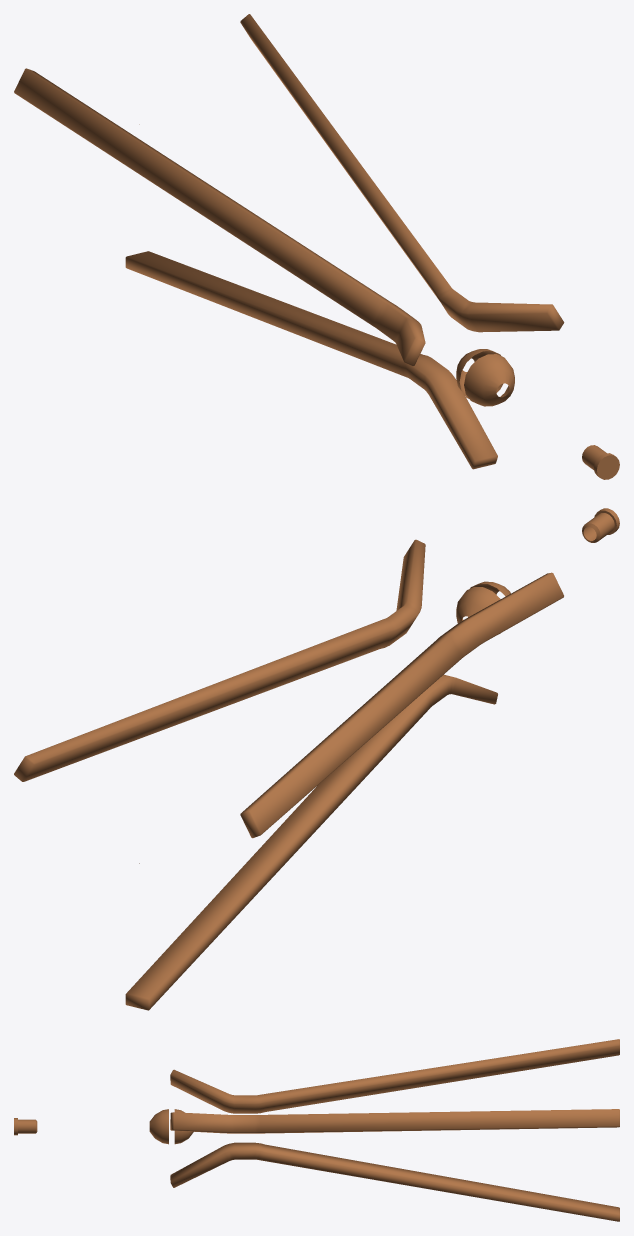
Rendered from MeshFloorLamp_14_0_GeomSubset_0.obj.
3 views of the same model, one above another, from view 1: azimuth 30°, elevation 25°; view 2: azimuth 150°, elevation 25°; view 3: azimuth 270°, elevation 25° (orthographic). The views are drawn at different scales.
Visible parts, largest first — view 1: MeshFloorLamp_14_0_GeomSubset_0; view 2: MeshFloorLamp_14_0_GeomSubset_0; view 3: MeshFloorLamp_14_0_GeomSubset_0.
Part boxes in pixels (x1,y1,x2,y2): MeshFloorLamp_14_0_GeomSubset_0: (14,14,619,479); MeshFloorLamp_14_0_GeomSubset_0: (14,508,619,1010); MeshFloorLamp_14_0_GeomSubset_0: (14,1039,619,1221).
Bounding box in the file's own units: 0.5321 × 0.4616 × 1.76.
